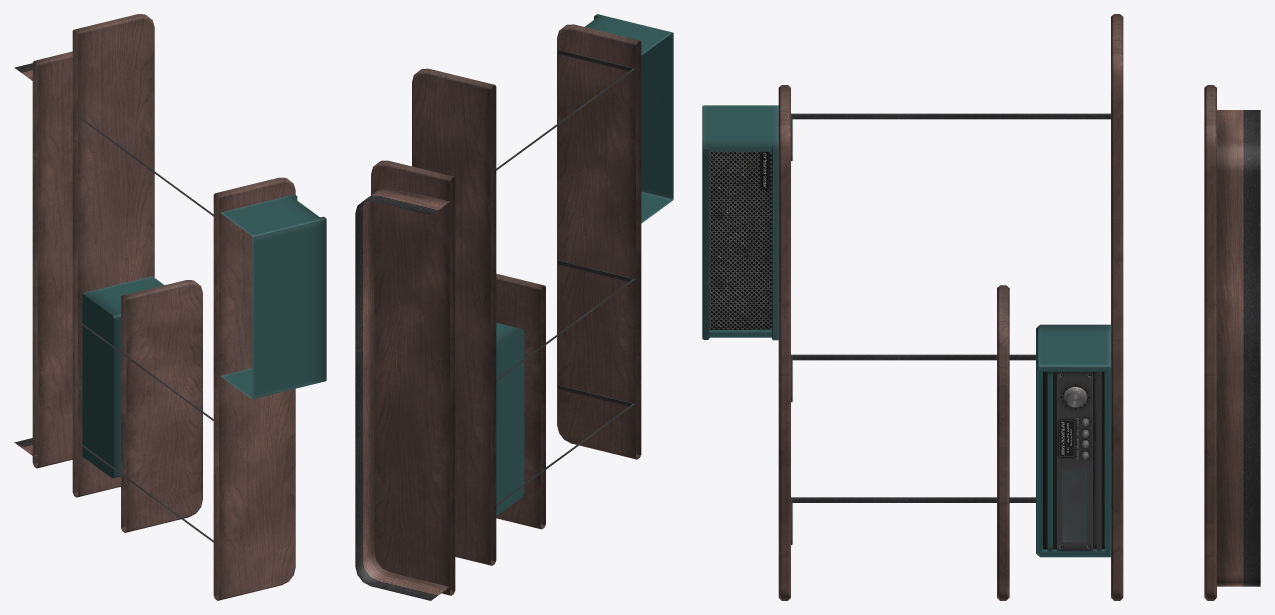
File: nt_2020_hifi_shelf_LOD0.obj
3 views of the same model, side by side, from view 1: azimuth 30°, elevation 25°; view 2: azimuth 150°, elevation 25°; view 3: azimuth 270°, elevation 25° (orthographic). The views are drawn at different scales.
Visible parts, largest first — view 1: mtl_nt_2020_hifi_shelf; view 2: mtl_nt_2020_hifi_shelf; view 3: mtl_nt_2020_hifi_shelf, mtl_nt_2020_hifi_shelf_glass.
Part boxes in pixels (x1,y1,x2,y2): mtl_nt_2020_hifi_shelf: (14, 14, 326, 600); mtl_nt_2020_hifi_shelf: (355, 14, 673, 600); mtl_nt_2020_hifi_shelf: (702, 14, 1260, 600); mtl_nt_2020_hifi_shelf_glass: (1062, 470, 1087, 540).
Size of the model in its own units: 44.32 by 246 by 227.
